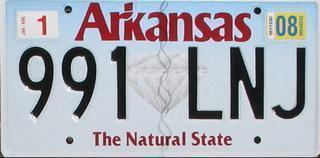placa de veiculo: (6, 1, 319, 158)
